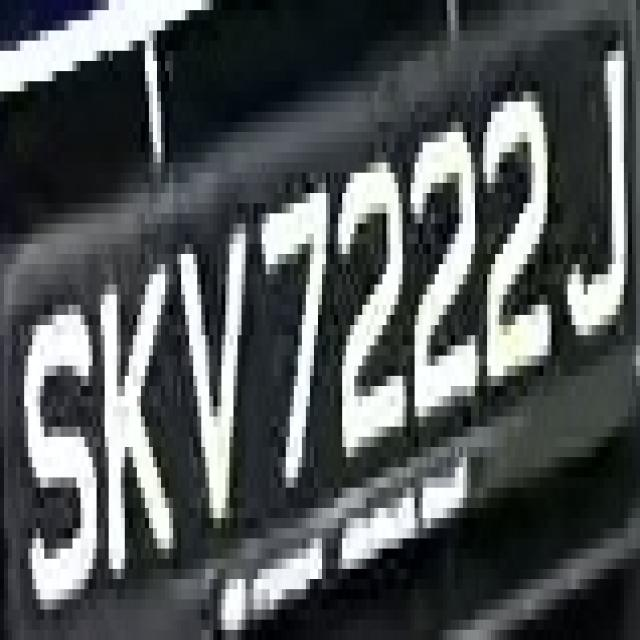2: (378, 71, 487, 447), (459, 81, 563, 406), (326, 122, 419, 477)
7: (254, 162, 338, 508)
J: (551, 21, 636, 346)
K: (85, 203, 173, 579)
S: (12, 274, 101, 640)
V: (169, 203, 262, 549)
